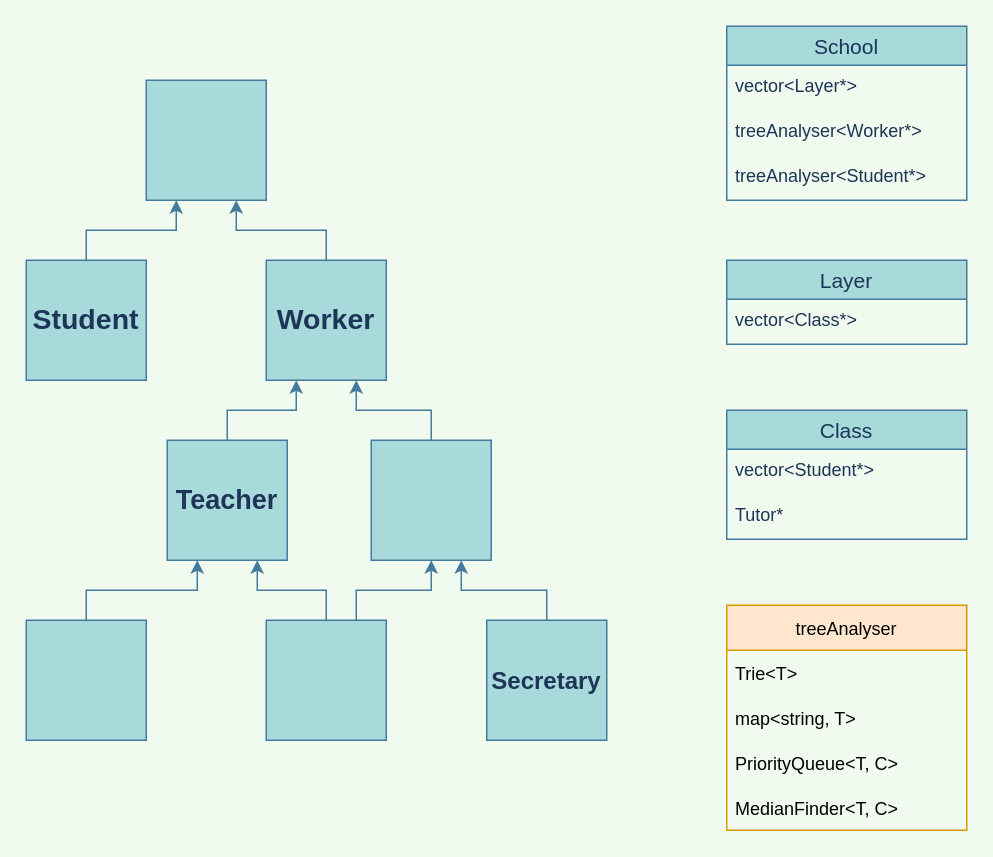
Some shapes in this 993 by 857 pixel diagram are drawn without their labels. Each missing label, with the centre of its shape:
"Administrative Man" belongs at point (430, 499).
"Manager" belongs at point (325, 679).
"Person" belongs at point (205, 139).
"Tutor" belongs at point (85, 679).
